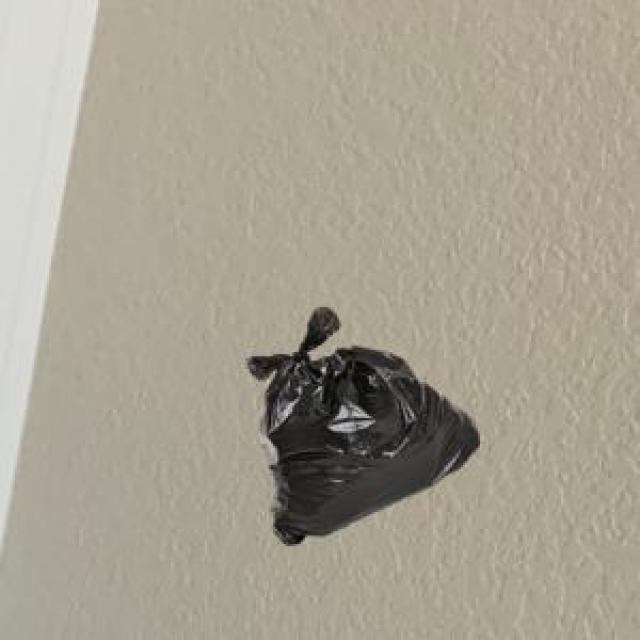Vinyl: (248, 308, 479, 544)
